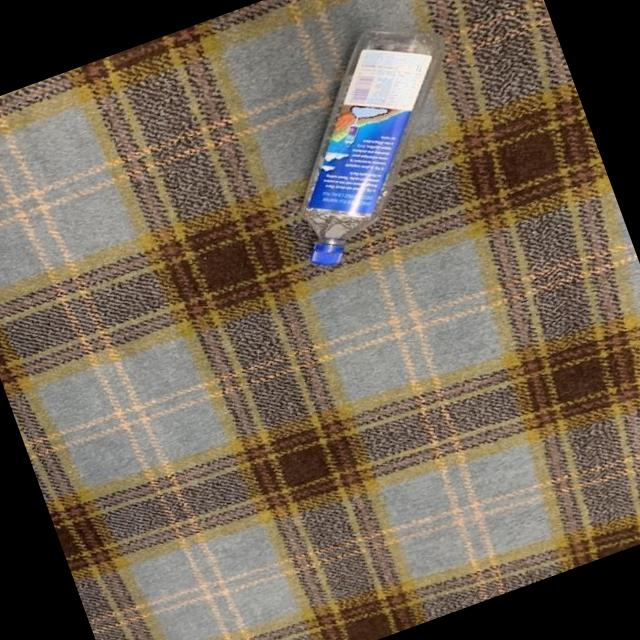BotolPlastik: (242, 6, 504, 275)
